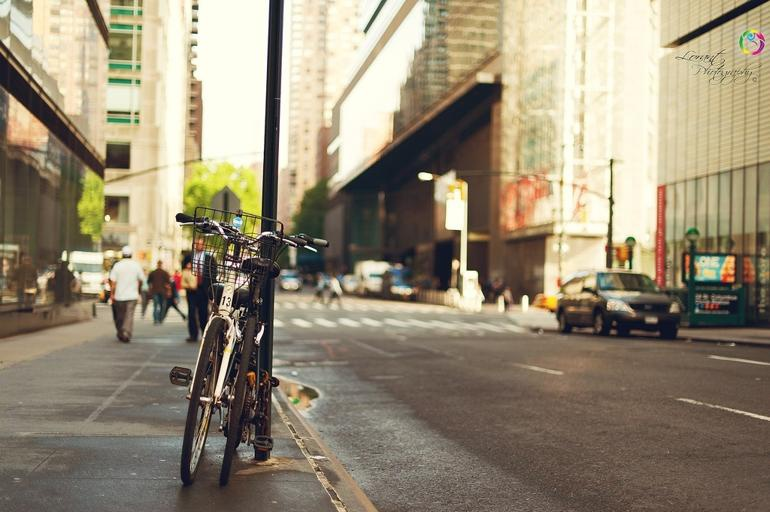non-vehicle: (168, 209, 308, 486), (201, 219, 330, 487)
